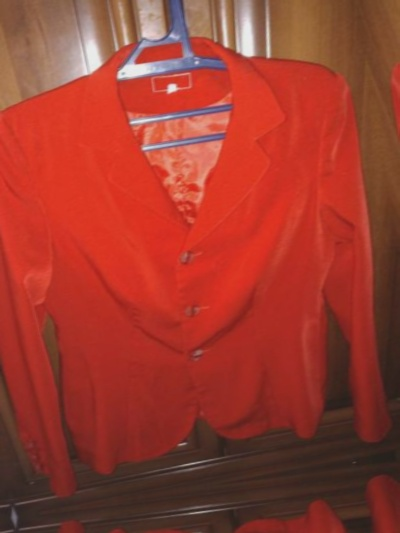Blazer: (0, 15, 400, 505), (31, 462, 400, 533), (366, 0, 400, 439), (0, 531, 69, 533)
